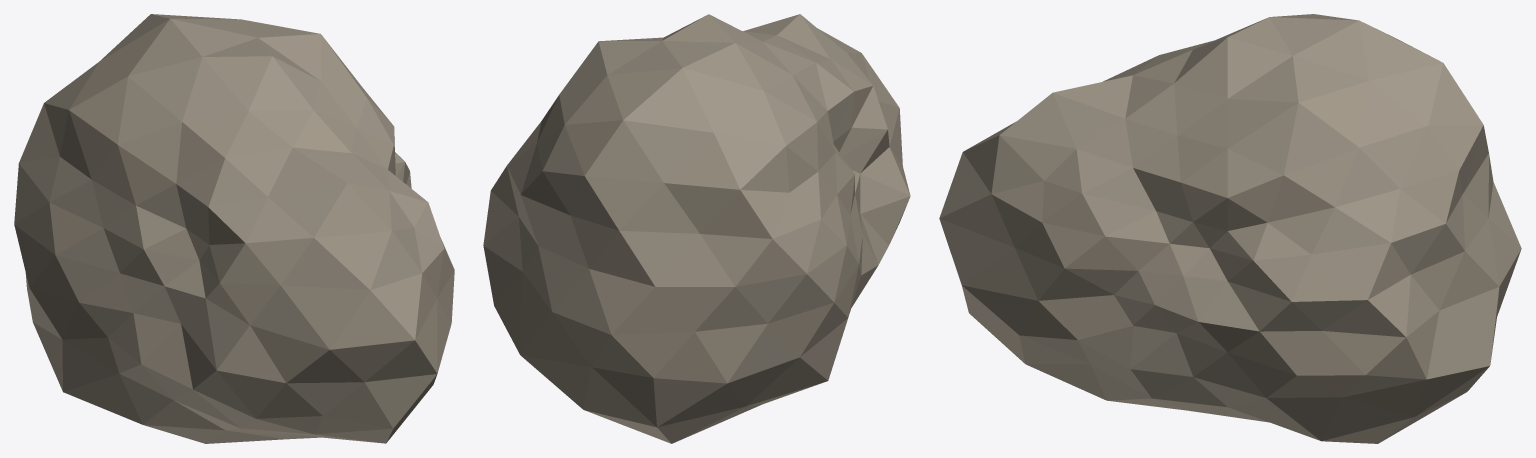
File: rock3.glb
3 views of the same model, side by side, from view 1: azimuth 30°, elevation 25°; view 2: azimuth 150°, elevation 25°; view 3: azimuth 270°, elevation 25° (orthographic). The views are drawn at different scales.
Parts seen in each view (by area): view 1: rock; view 2: rock; view 3: rock.
Boxes of the visible parts, bbox=[...] form: rock: bbox=[14, 14, 454, 443]; rock: bbox=[483, 14, 910, 443]; rock: bbox=[939, 14, 1521, 443].
Bounding box in the file's own units: 1.71 × 1.75 × 2.39.
